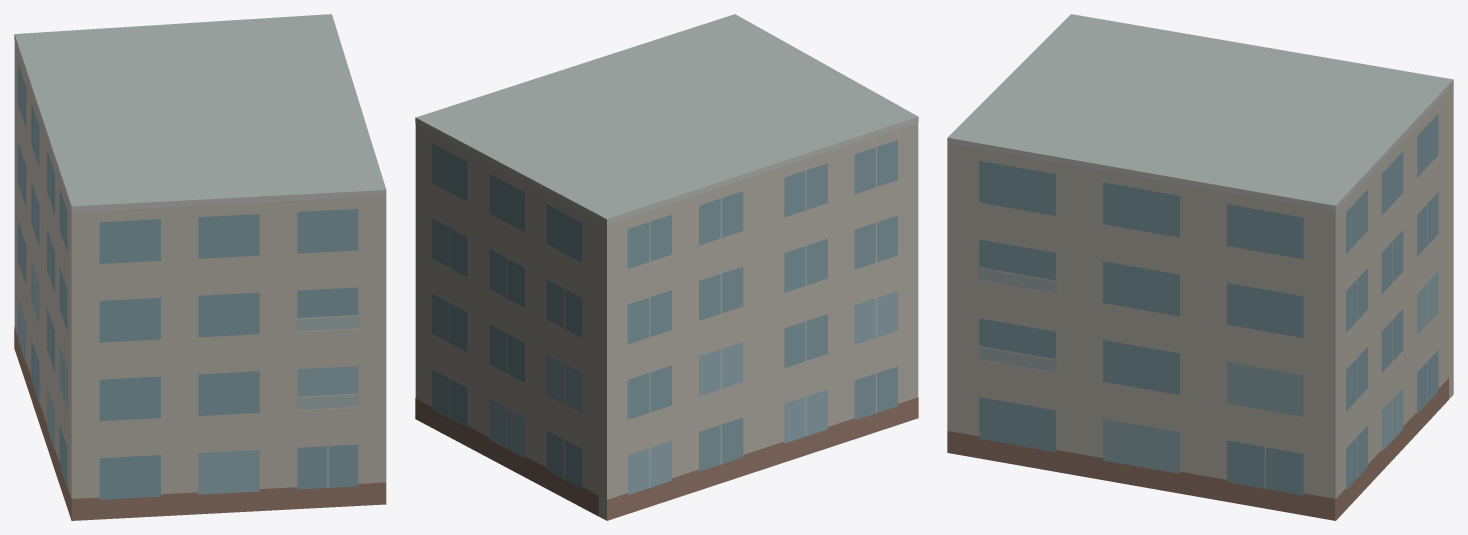
File: survey-upis-32834744.glb
3 renders of one model, left to right at view 1: azimuth 30°, elevation 25°; view 2: azimuth 150°, elevation 25°; view 3: azimuth 270°, elevation 25°, orthographic. The views are drawn at different scales.
Visible parts, largest first — view 1: survey-upis-32834744.tmp; view 2: survey-upis-32834744.tmp; view 3: survey-upis-32834744.tmp.
Boxes of the visible parts, <box> form: survey-upis-32834744.tmp: <box>14,14,386,520</box>; survey-upis-32834744.tmp: <box>415,14,918,520</box>; survey-upis-32834744.tmp: <box>947,14,1453,520</box>.
Bounding box in the file's own units: 16.98 × 13 × 18.94.
